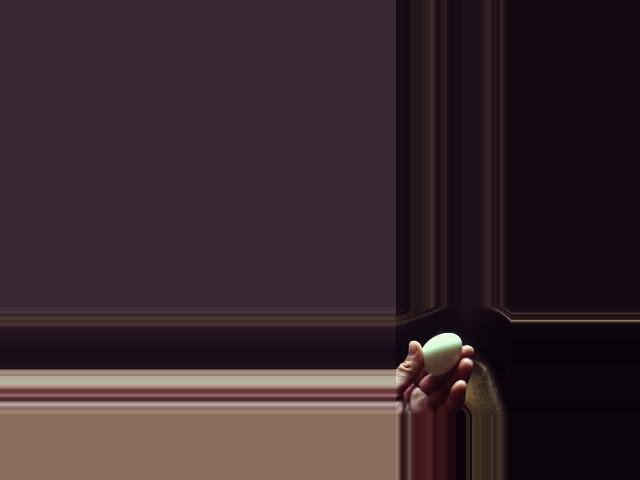egg: (421, 333, 461, 375)
